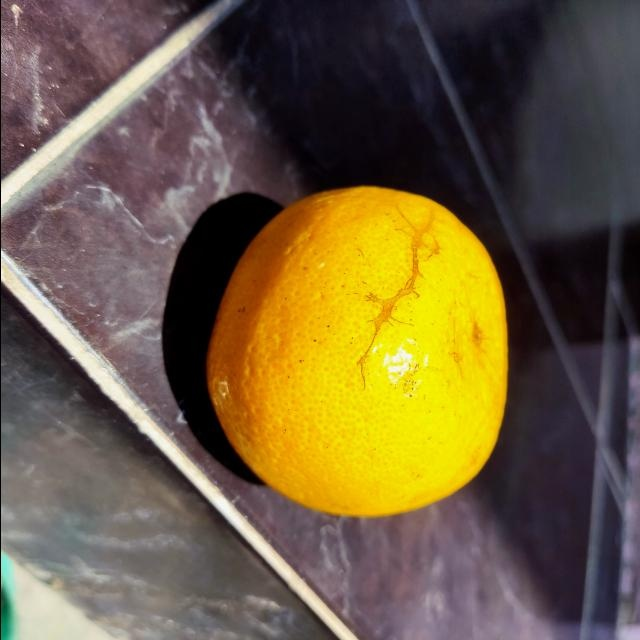agrume: (206, 181, 509, 523)
